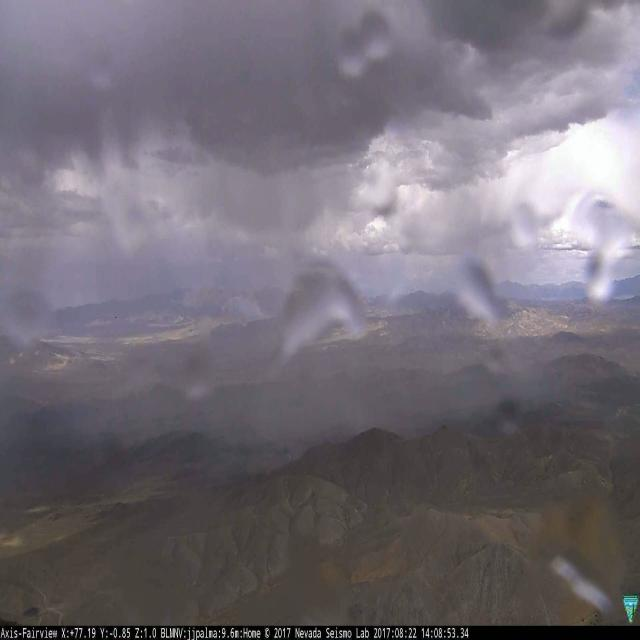smoke: (226, 289, 266, 321)
